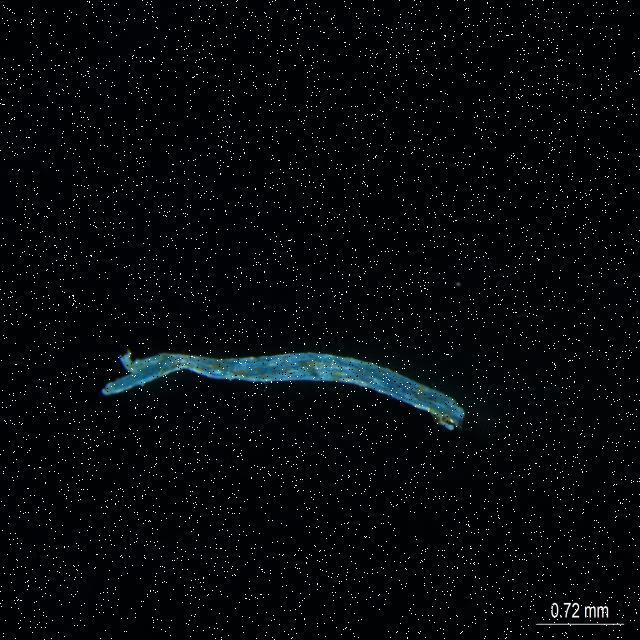Fibre: (90, 348, 467, 436)
